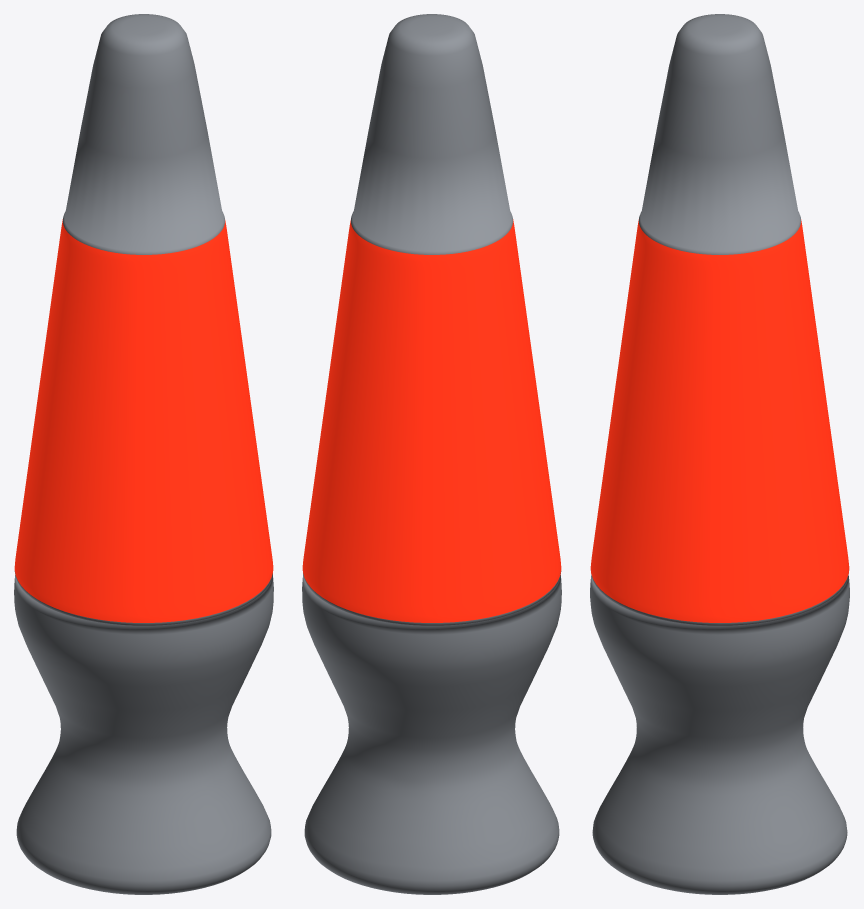
Rendered from coffee-lamp.glb.
The picture shows the model from 3 angles, left to right: view 1: azimuth 30°, elevation 25°; view 2: azimuth 150°, elevation 25°; view 3: azimuth 270°, elevation 25°; orthographic projection.
Parts seen in each view (by area): view 1: Silindir-web; view 2: Silindir-web; view 3: Silindir-web.
Boxes of the visible parts, x1=… form: Silindir-web: x1=14, y1=14, x2=273, y2=894; Silindir-web: x1=302, y1=14, x2=561, y2=894; Silindir-web: x1=590, y1=14, x2=849, y2=894.
Size of the model in its own units: 0.572 by 2 by 0.572.
